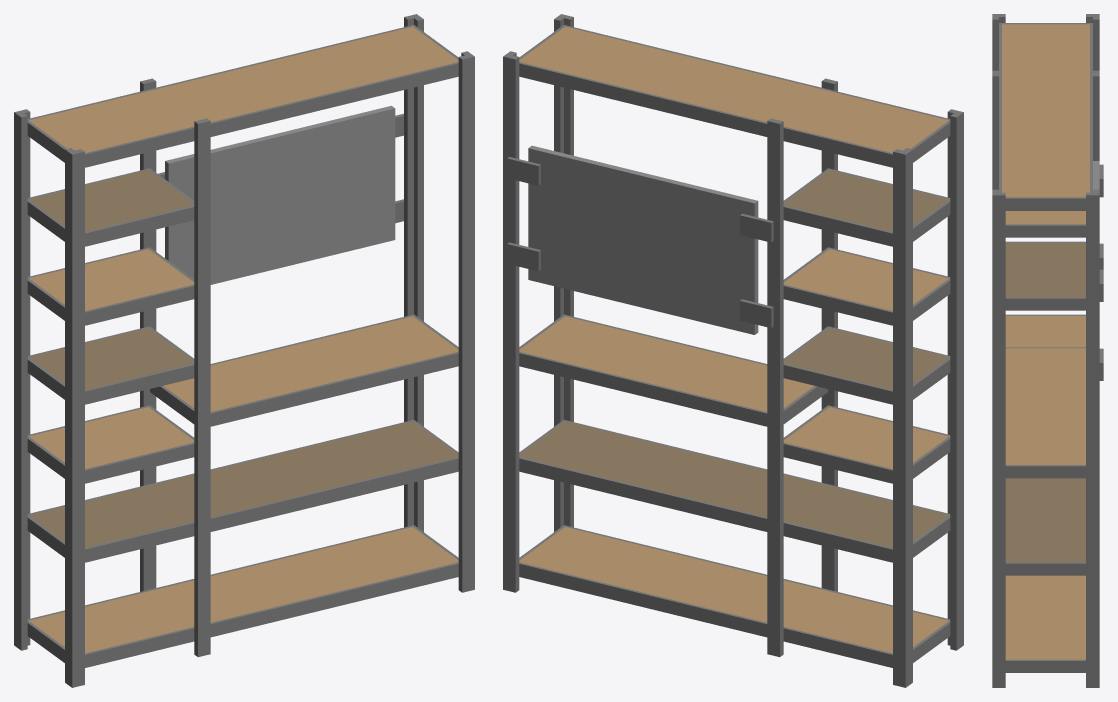
The model's file is Stand1.fbx.
3 renders of one model, left to right at view 1: azimuth 30°, elevation 25°; view 2: azimuth 150°, elevation 25°; view 3: azimuth 270°, elevation 25°, orthographic. The views are drawn at different scales.
Parts seen in each view (by area): view 1: isl_Shelf_05_Def.obj; view 2: isl_Shelf_05_Def.obj; view 3: isl_Shelf_05_Def.obj.
Part boxes in pixels (x1,y1,x2,y2): isl_Shelf_05_Def.obj: (14,14,474,687); isl_Shelf_05_Def.obj: (503,14,963,687); isl_Shelf_05_Def.obj: (992,14,1103,687).
Bounding box in the file's own units: 160 × 203 × 41.58.
